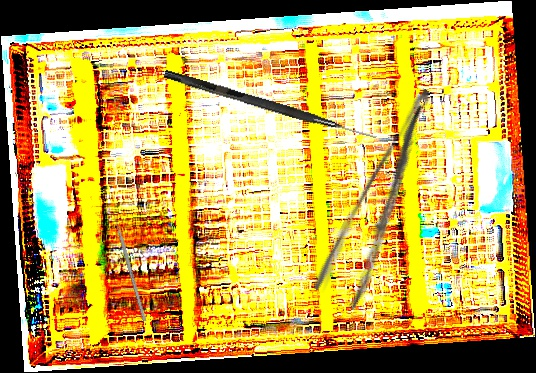Dressing Forceps: (308, 85, 466, 312)
Hook Surgical: (162, 69, 379, 142)
Pusher: (110, 206, 147, 322)
